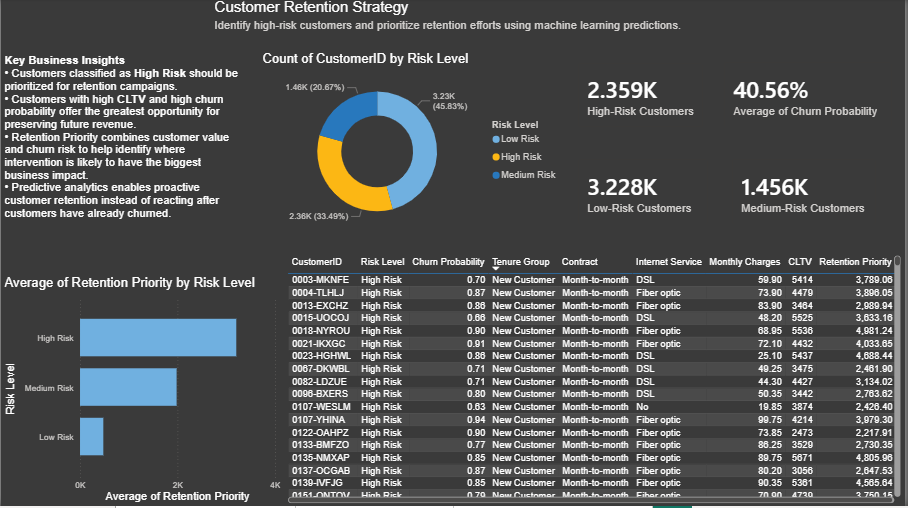

This screenshot's page, from the dashboard's own definition file:
{"tool":"powerbi","page":{"name":"Customer Retention Strategy","canvas":[1280,720],"ordinal":2},"visuals":[{"type":"textbox","title":"Customer Retention Strategy","box":[297.3,1.7,683.7,73.9],"z":0},{"type":"cardVisual","fields":{"Data":["Count(customer_churn_powerbi.CustomerID)"]},"box":[801.3,75.6,211.7,126],"z":1000},{"type":"cardVisual","fields":{"Data":["Count(customer_churn_powerbi.CustomerID)"]},"box":[1019.6,211.7,238.5,127.7],"z":2000},{"type":"cardVisual","fields":{"Data":["Count(customer_churn_powerbi.CustomerID)"]},"box":[801.3,211.7,218.4,127.7],"z":3000},{"type":"cardVisual","fields":{"Data":["Avg(customer_churn_powerbi.Churn Probability)"]},"box":[1007.7,73.7,272.1,127.6],"z":4000},{"type":"donutChart","fields":{"Category":["customer_churn_powerbi.Risk Level"],"Y":["CountNonNull(customer_churn_powerbi.CustomerID)"]},"box":[366.2,75.6,435.1,263.7],"z":5000},{"type":"barChart","fields":{"Y":["Avg(customer_churn_powerbi.Retention Priority)"],"Category":["customer_churn_powerbi.Risk Level"]},"box":[0,393.1,401.5,327.6],"z":6000},{"type":"tableEx","fields":{"Values":["customer_churn_powerbi.CustomerID","customer_churn_powerbi.Risk Level","customer_churn_powerbi.Churn Probability","customer_churn_powerbi.Tenure Group","customer_churn_powerbi.Contract","customer_churn_powerbi.Internet Service","customer_churn_powerbi.Monthly Charges","customer_churn_powerbi.CLTV","customer_churn_powerbi.Retention Priority"]},"box":[401.5,359.5,878.5,361.2],"z":7000},{"type":"textbox","box":[0,75.6,342.7,283.9],"z":8000}]}

Visuals, with their boxes in screenshot pixels (x1, y1, x2, y2), scaled from the page's 1280x720 canvas onto the 908x508 screenshot:
"Customer Retention Strategy" textbox: <box>211,1,696,53</box>
cardVisual - Count(customer_churn_powerbi.CustomerID): <box>568,53,719,142</box>
cardVisual - Count(customer_churn_powerbi.CustomerID): <box>723,149,892,239</box>
cardVisual - Count(customer_churn_powerbi.CustomerID): <box>568,149,723,239</box>
cardVisual - Avg(customer_churn_powerbi.Churn Probability): <box>715,52,907,142</box>
donutChart - customer_churn_powerbi.Risk Level x CountNonNull(customer_churn_powerbi.CustomerID): <box>260,53,568,239</box>
barChart - Avg(customer_churn_powerbi.Retention Priority) x customer_churn_powerbi.Risk Level: <box>0,277,285,507</box>
tableEx - customer_churn_powerbi.CustomerID x customer_churn_powerbi.Risk Level: <box>285,254,907,507</box>
textbox: <box>0,53,243,254</box>
